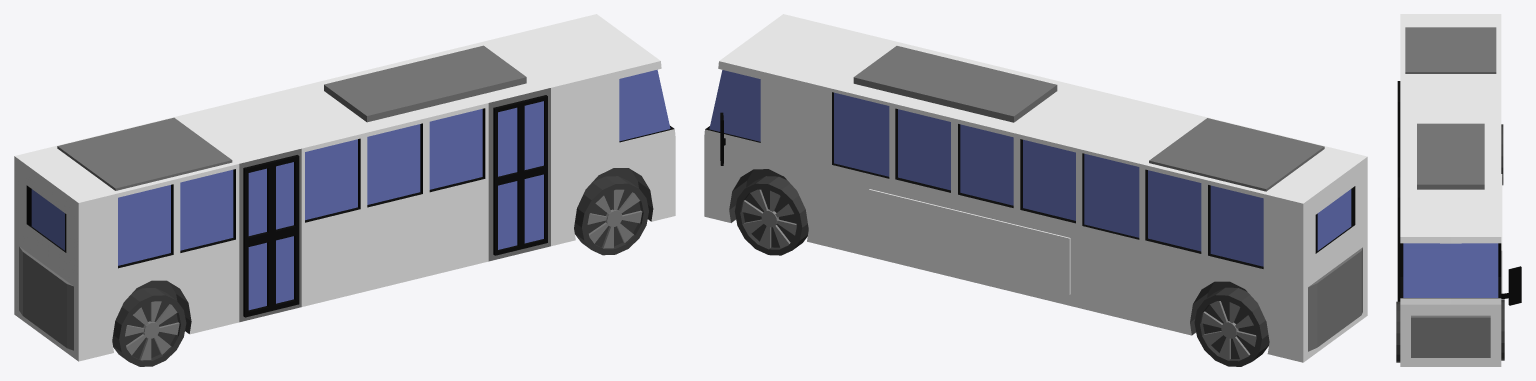
Rendered from Autobus.fbx.
The picture shows the model from 3 angles, left to right: view 1: azimuth 30°, elevation 25°; view 2: azimuth 150°, elevation 25°; view 3: azimuth 270°, elevation 25°; orthographic projection. The views are drawn at different scales.
Visible parts, largest first — view 1: Autobus, Roue-AvD.001, Roue-ArD.001; view 2: Autobus, Roue-ArG.001, Roue-AvG.001; view 3: Autobus, Mirroir, Roue-AvD.001, Roue-AvG.001, Roue-ArG.001.
Boxes of the visible parts, left/top/right/bottom form: Autobus: left=14, top=14, right=675, bottom=361; Roue-AvD.001: left=574, top=176, right=648, bottom=255; Roue-ArD.001: left=112, top=288, right=186, bottom=366; Autobus: left=704, top=14, right=1367, bottom=362; Roue-ArG.001: left=1194, top=287, right=1269, bottom=366; Roue-AvG.001: left=734, top=176, right=808, bottom=255; Autobus: left=1397, top=14, right=1502, bottom=366; Mirroir: left=1501, top=266, right=1521, bottom=305; Roue-AvD.001: left=1396, top=301, right=1400, bottom=362; Roue-AvG.001: left=1501, top=299, right=1504, bottom=360; Roue-ArG.001: left=1501, top=124, right=1503, bottom=185.
Size of the model in its own units: 1200 by 353 by 275.
